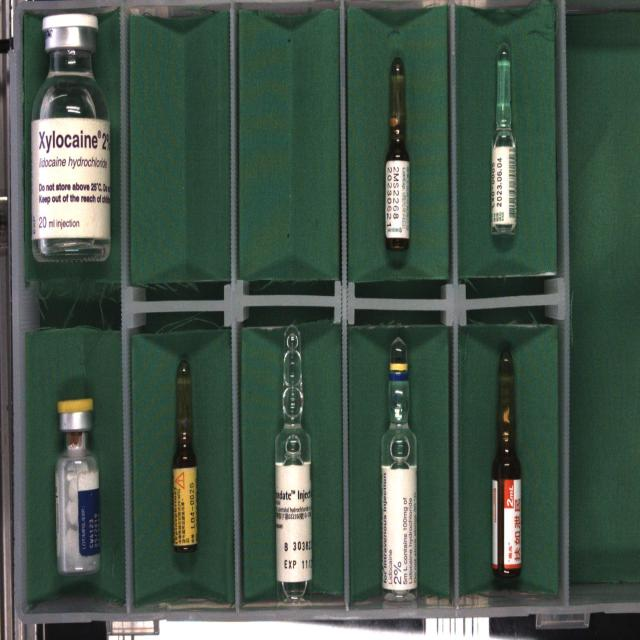Vials: (31, 13, 111, 261), (56, 398, 100, 572)
